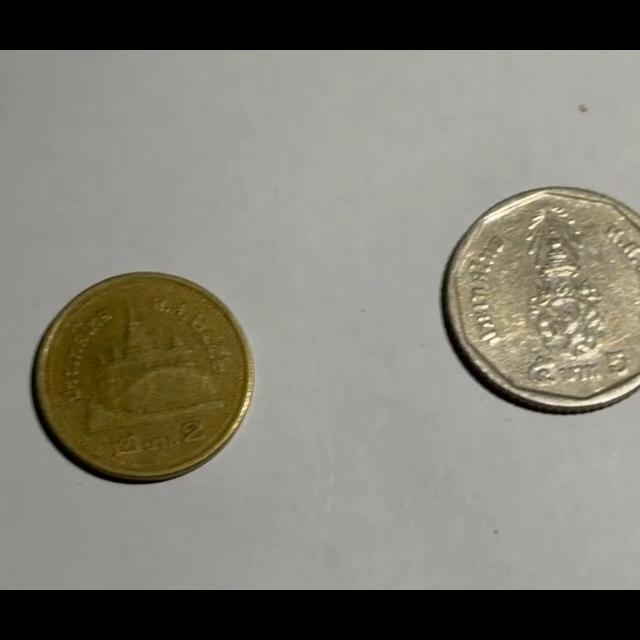2-baht: (33, 272, 251, 481)
5-baht: (441, 186, 640, 412)
